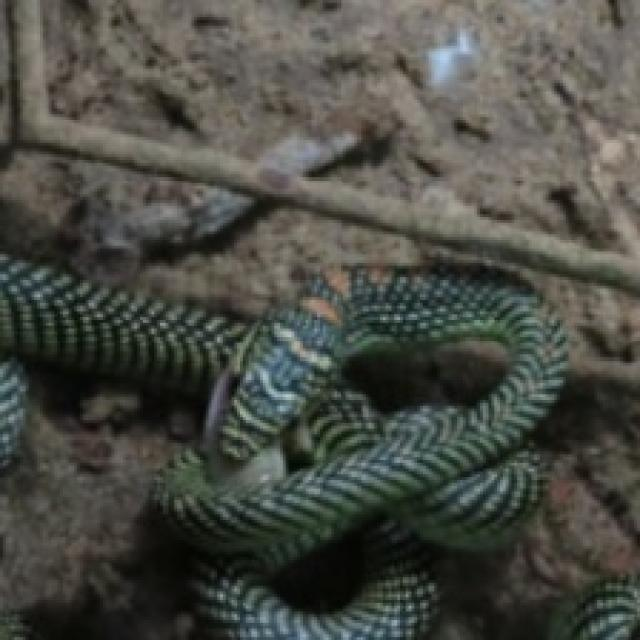paradise tree snake: (0, 254, 563, 637)
